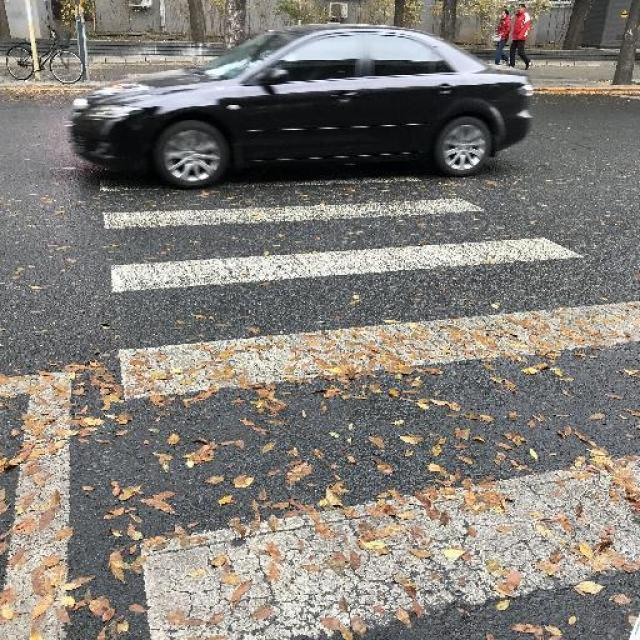crosswalk: (103, 197, 640, 639)
